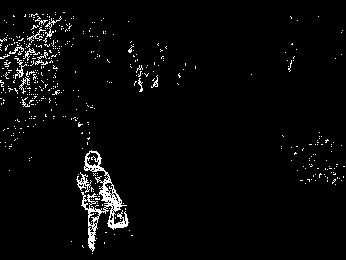person: (75, 151, 128, 252)
